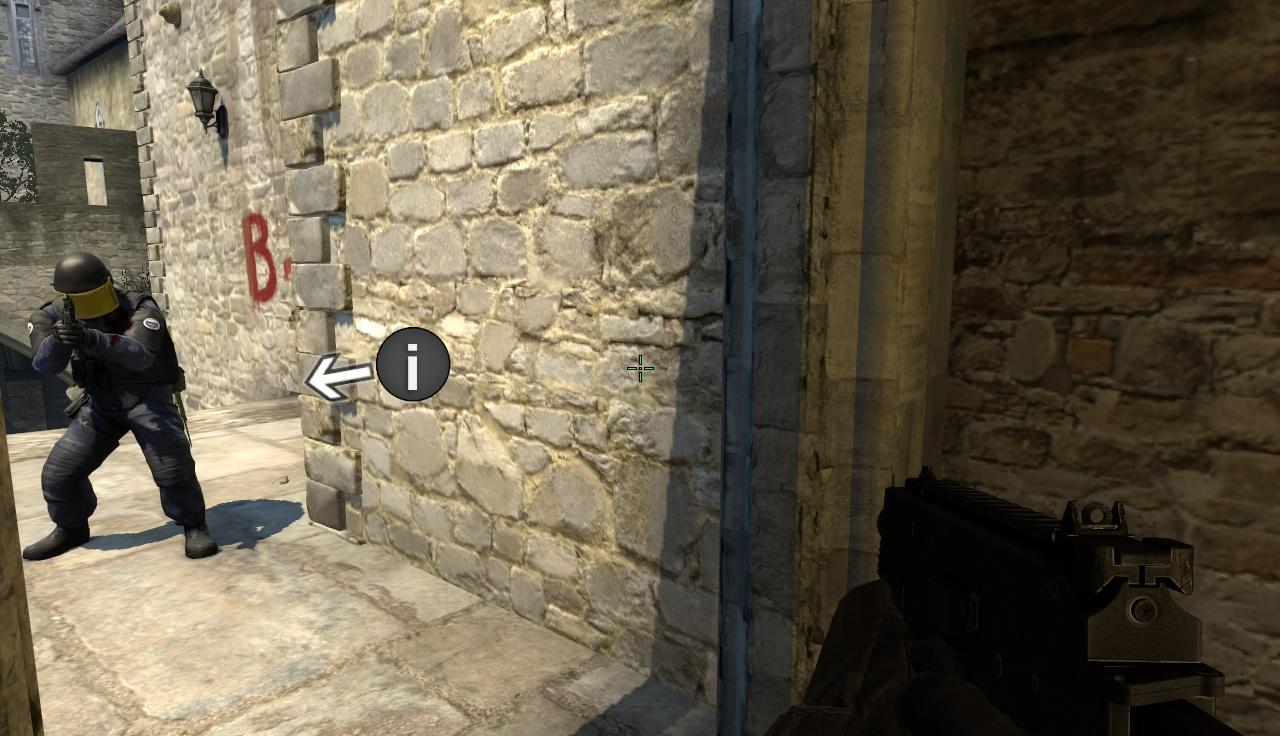ct: (21, 253, 201, 554)
cthead: (53, 252, 118, 317)
rifle: (874, 475, 1280, 736)
